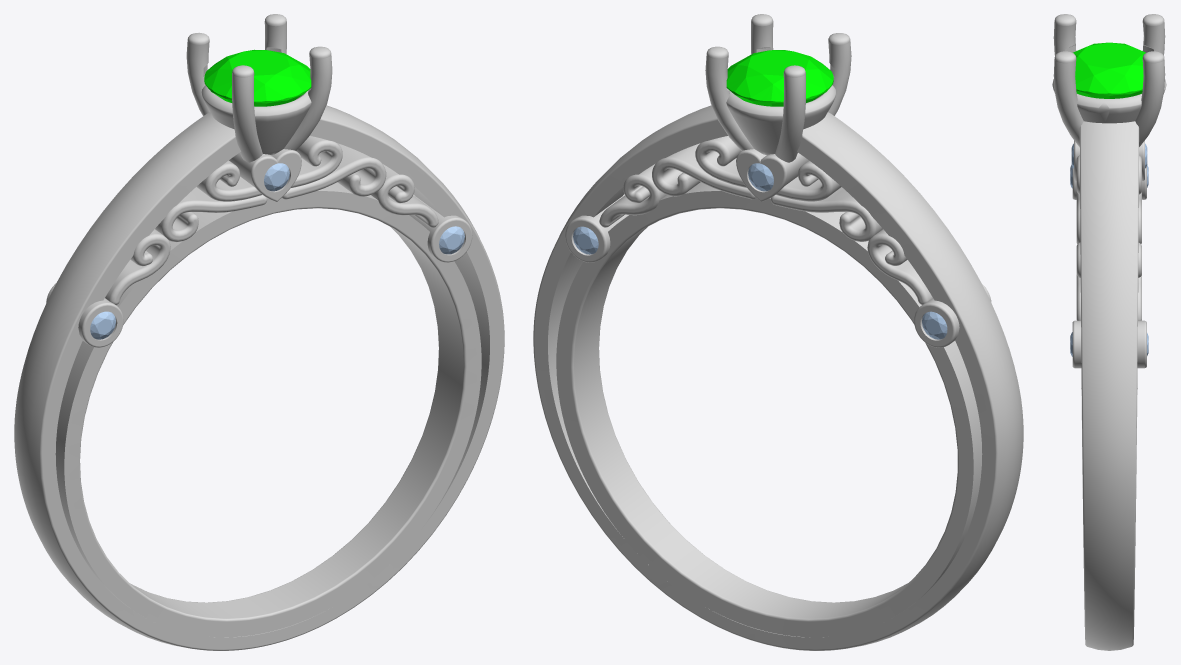
3 renders of one model, left to right at view 1: azimuth 30°, elevation 25°; view 2: azimuth 150°, elevation 25°; view 3: azimuth 270°, elevation 25°, orthographic.
Parts seen in each view (by area): view 1: Solitario 1.3dm; view 2: Solitario 1.3dm; view 3: Solitario 1.3dm.
Boxes of the visible parts, box(x1,y1,x2,y2) form: Solitario 1.3dm: box(14, 14, 504, 650); Solitario 1.3dm: box(533, 14, 1023, 650); Solitario 1.3dm: box(1052, 14, 1166, 650).
Bounding box in the file's own units: 2.53 × 3.05 × 0.5338.
